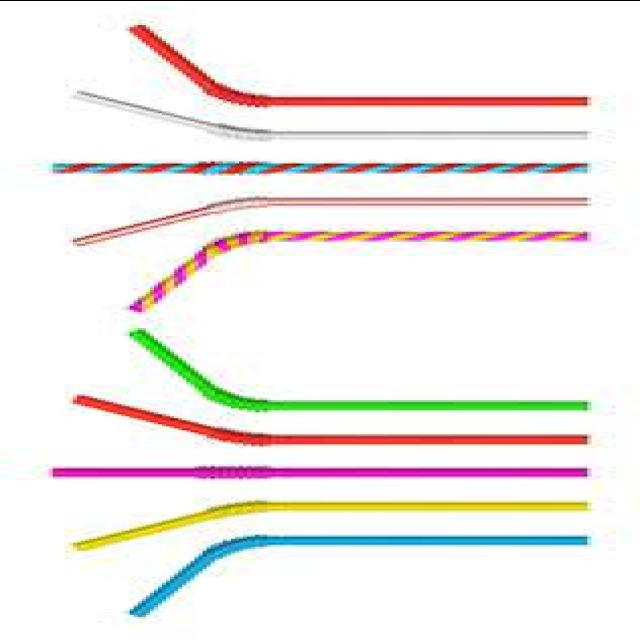straw: (129, 535, 587, 616), (131, 329, 587, 410), (129, 26, 587, 105), (131, 233, 587, 311), (73, 500, 587, 550), (73, 396, 587, 445), (73, 91, 587, 140), (73, 196, 587, 245), (50, 161, 587, 174), (50, 466, 587, 476)
